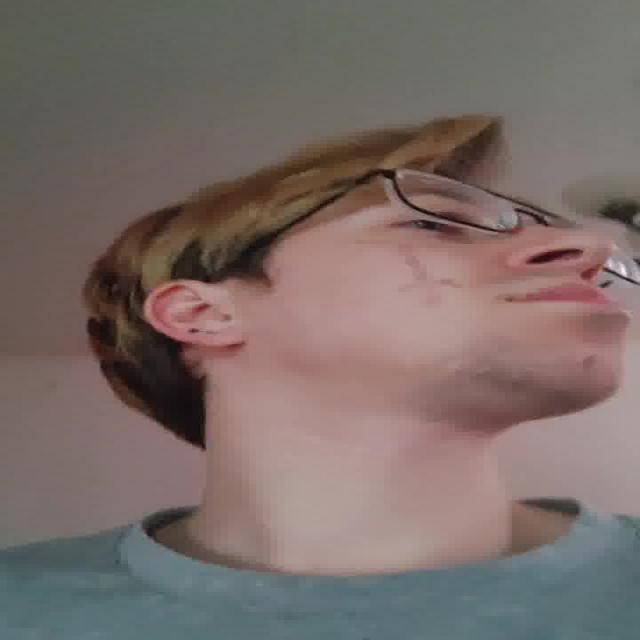earlobe: (188, 332, 248, 349)
eye: (389, 212, 464, 237)
nose: (520, 257, 602, 290)
wholeear: (146, 280, 245, 349)
